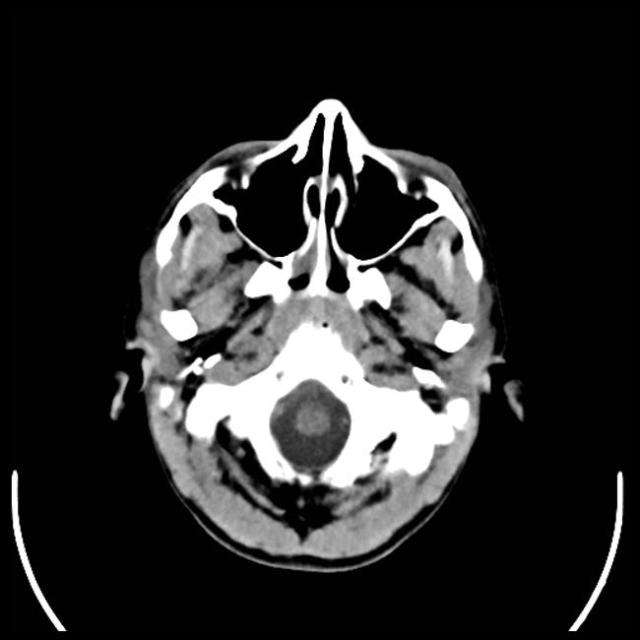lesion: (112, 95, 520, 574)
